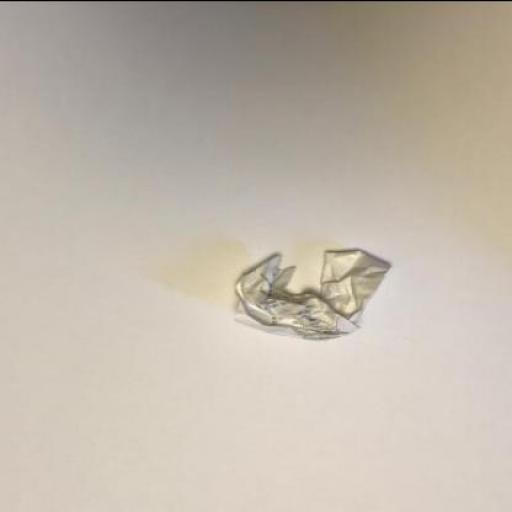paper: (232, 249, 393, 341)
